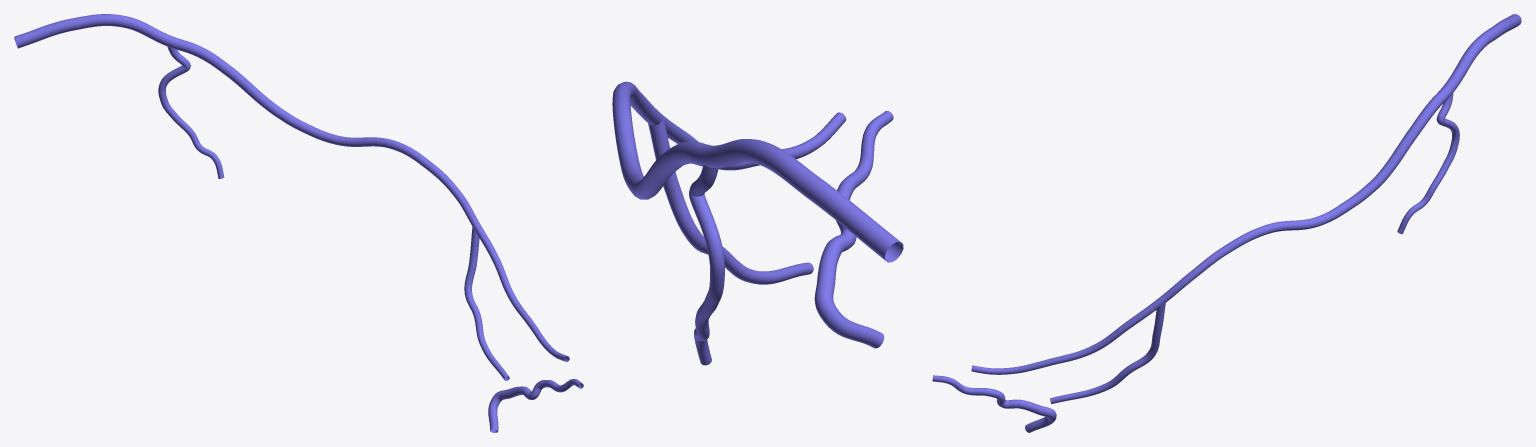
The model's file is Inferior_vein_left_ventricle.glb.
3 views of the same model, side by side, from view 1: azimuth 30°, elevation 25°; view 2: azimuth 150°, elevation 25°; view 3: azimuth 270°, elevation 25° (orthographic). The views are drawn at different scales.
Visible parts, largest first — view 1: Inferior_vein_of_left_ventricle_BezierCurve.484; view 2: Inferior_vein_of_left_ventricle_BezierCurve.484; view 3: Inferior_vein_of_left_ventricle_BezierCurve.484.
Boxes of the visible parts, <box> form: Inferior_vein_of_left_ventricle_BezierCurve.484: <box>14,14,583,432</box>; Inferior_vein_of_left_ventricle_BezierCurve.484: <box>612,81,903,365</box>; Inferior_vein_of_left_ventricle_BezierCurve.484: <box>932,14,1521,432</box>.
Bounding box in the file's own units: 0.0373 × 0.0359 × 0.0616.
